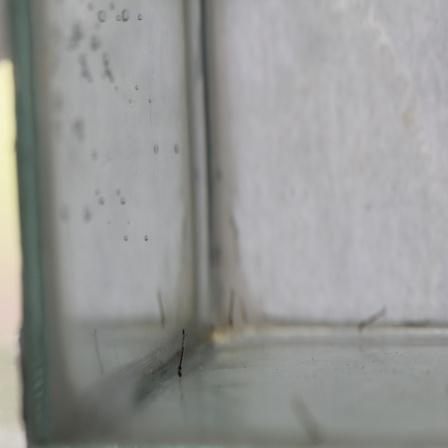Jentik-Nyamuk: (173, 324, 191, 381)
